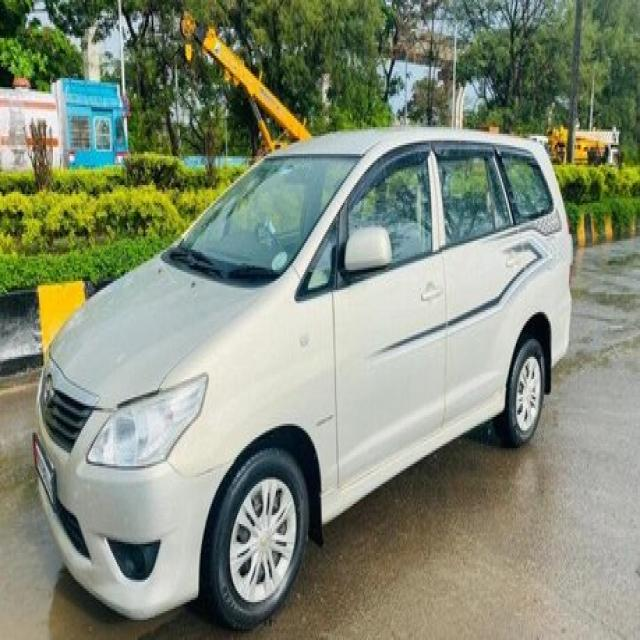light_vehicle: (31, 125, 574, 629)
